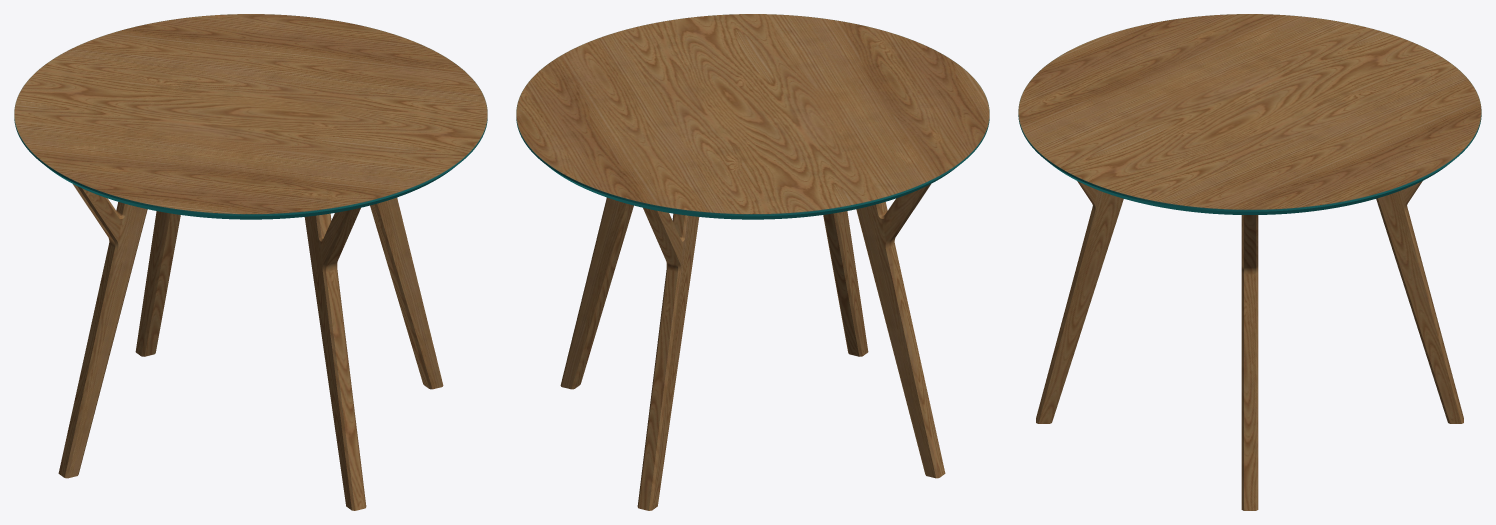
Rendered from coffee_table.glb.
The picture shows the model from 3 angles, left to right: view 1: azimuth 30°, elevation 25°; view 2: azimuth 150°, elevation 25°; view 3: azimuth 270°, elevation 25°; orthographic projection. The views are drawn at different scales.
Parts seen in each view (by area): view 1: Top, Legs; view 2: Top, Legs; view 3: Top, Legs.
Boxes of the visible parts, left/top/right/bottom form: Top: left=14, top=14, right=487, bottom=219; Legs: left=58, top=184, right=443, bottom=510; Top: left=516, top=14, right=989, bottom=219; Legs: left=560, top=184, right=945, bottom=510; Top: left=1018, top=14, right=1481, bottom=214; Legs: left=1036, top=181, right=1463, bottom=510.
Size of the model in its own units: 102 by 75 by 102.
Materials: 1 (1 with a texture image).
